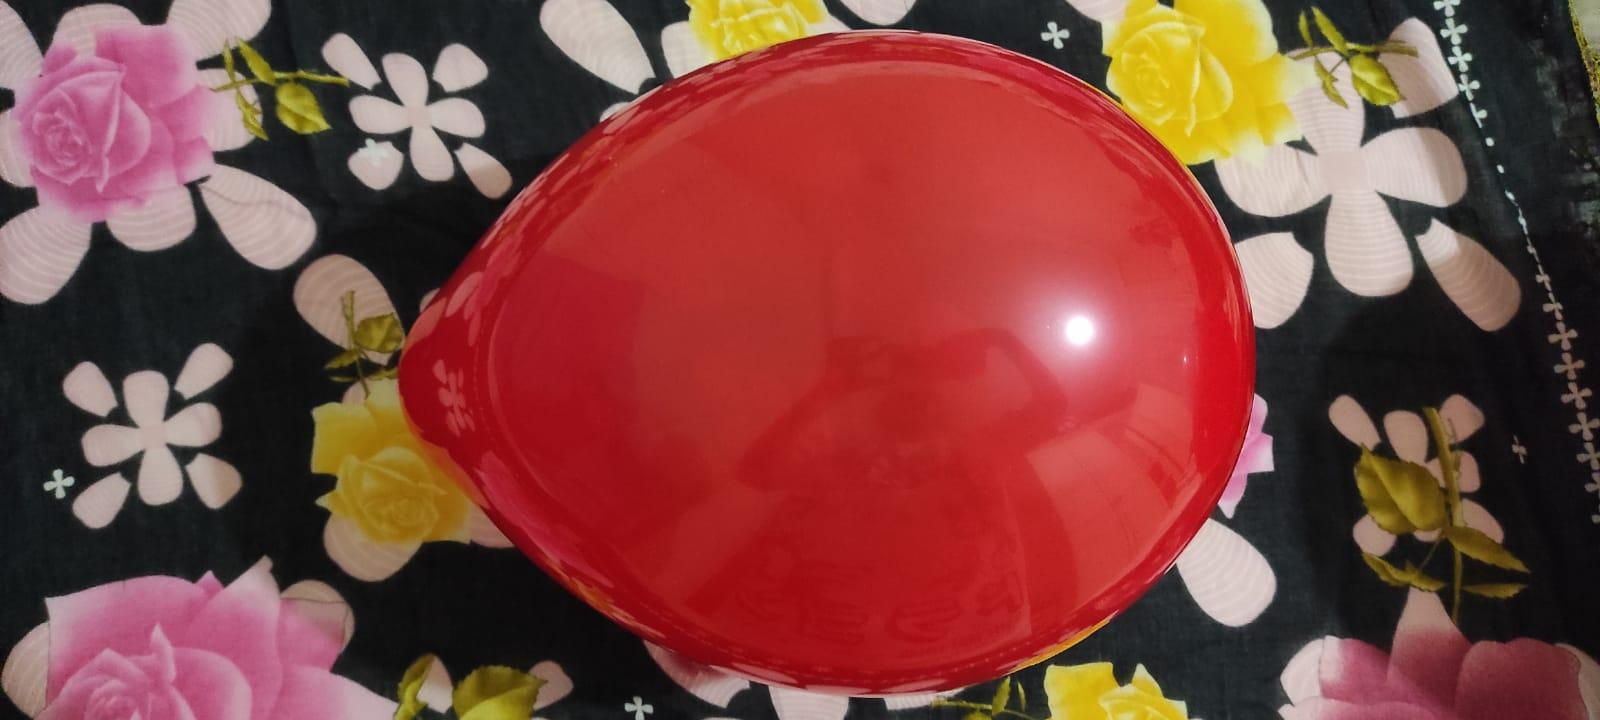red: (387, 25, 1256, 698)
